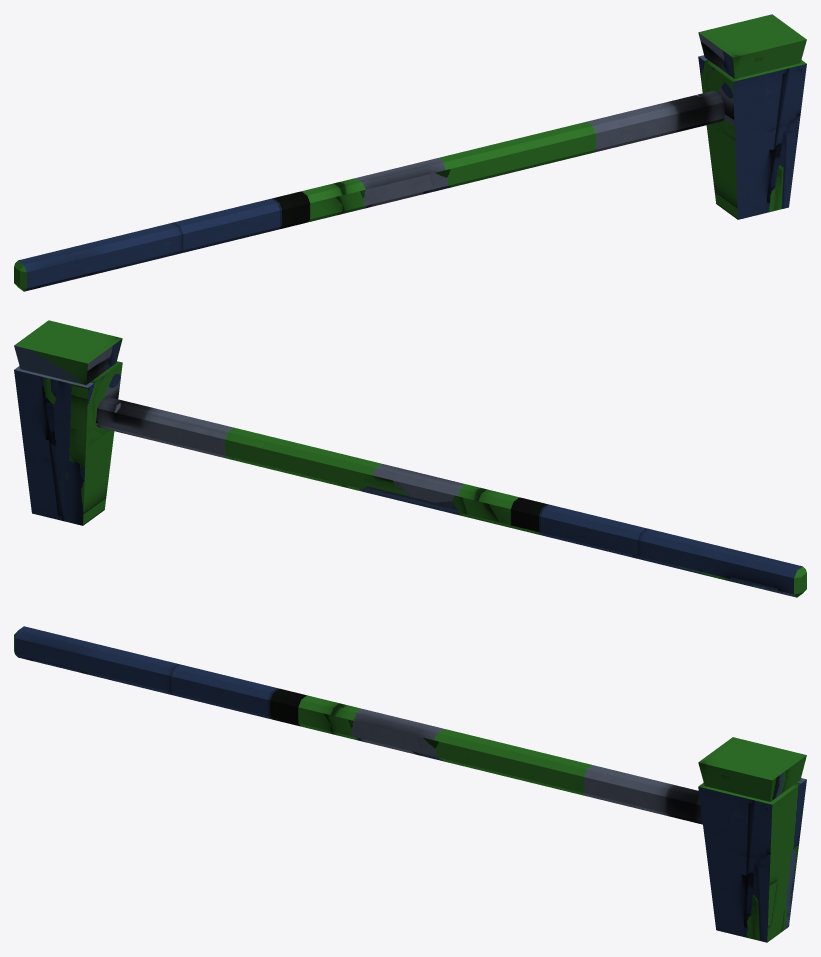
File: railbarrierright.obj
The picture shows the model from 3 angles, top to bottom: view 1: azimuth 30°, elevation 25°; view 2: azimuth 150°, elevation 25°; view 3: azimuth 330°, elevation 25°; orthographic projection.
Visible parts, largest first — view 1: pCube48; view 2: pCube48; view 3: pCube48.
Part boxes in pixels (box(x1,y1,x2,y2)): pCube48: box(14, 14, 806, 291); pCube48: box(14, 320, 806, 597); pCube48: box(14, 626, 806, 942).
Size of the model in its own units: 12.18 by 2.56 by 0.9465.
